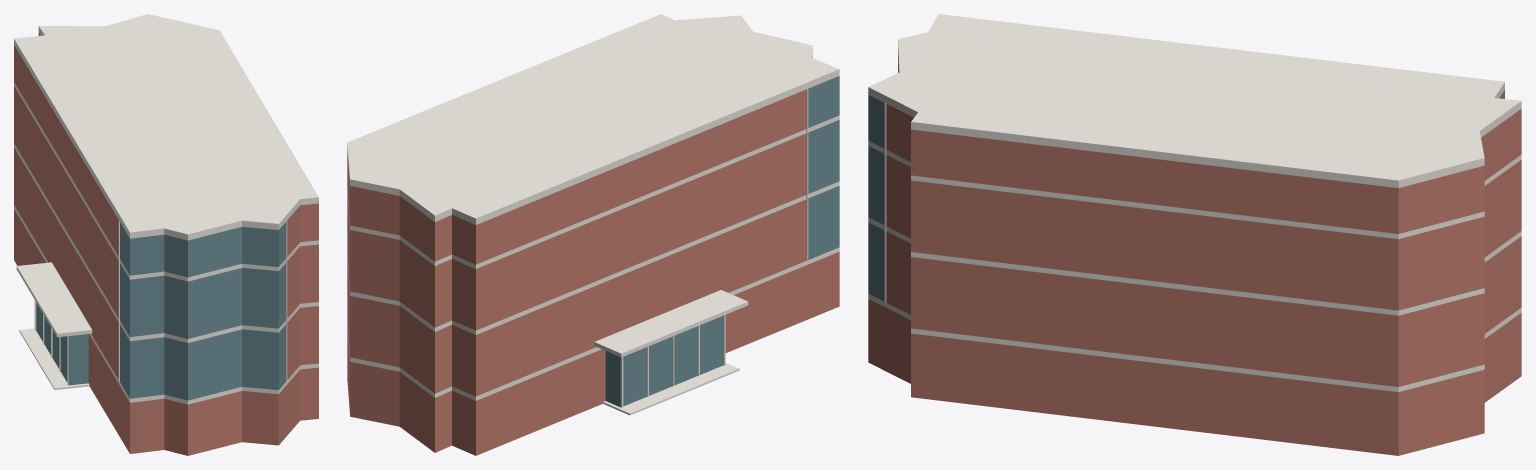
3 renders of one model, left to right at view 1: azimuth 30°, elevation 25°; view 2: azimuth 150°, elevation 25°; view 3: azimuth 270°, elevation 25°, orthographic. The views are drawn at different scales.
Visible parts, largest first — view 1: GHB_roof_slab, GHB_podium, GHB_corner_glass_0, GHB_corner_glass_1, GHB_tower_1, GHB_tower_0, GHB_corner_glass_2, GHB_tower_2, GHB_canopy, GHB_atrium, GHB_band_1, GHB_band_2 (+4 smaller); view 2: GHB_roof_slab, GHB_tower_1, GHB_tower_0, GHB_podium, GHB_tower_2, GHB_atrium, GHB_canopy, GHB_band_2, GHB_band_1, GHB_corner_glass_0, GHB_corner_glass_1, GHB_band_0 (+3 smaller); view 3: GHB_roof_slab, GHB_tower_0, GHB_tower_1, GHB_podium, GHB_tower_2, GHB_band_0, GHB_band_1, GHB_band_2, GHB_corner_glass_0, GHB_corner_glass_1, GHB_corner_glass_2.
Boxes of the visible parts, <box> form: GHB_roof_slab: <box>14,14,318,240</box>; GHB_podium: <box>14,209,318,455</box>; GHB_corner_glass_0: <box>120,325,285,400</box>; GHB_corner_glass_1: <box>120,263,285,338</box>; GHB_tower_1: <box>14,86,318,318</box>; GHB_tower_0: <box>14,148,318,379</box>; GHB_corner_glass_2: <box>120,222,285,277</box>; GHB_tower_2: <box>14,32,318,256</box>; GHB_canopy: <box>16,262,92,337</box>; GHB_atrium: <box>36,303,88,385</box>; GHB_band_1: <box>14,143,318,342</box>; GHB_band_2: <box>14,82,318,281</box>; GHB_roof_slab: <box>347,14,839,224</box>; GHB_tower_1: <box>347,133,806,330</box>; GHB_tower_0: <box>347,199,806,396</box>; GHB_podium: <box>347,251,839,455</box>; GHB_tower_2: <box>347,89,806,264</box>; GHB_atrium: <box>605,315,723,407</box>; GHB_canopy: <box>594,290,748,357</box>; GHB_band_2: <box>347,115,839,268</box>; GHB_band_1: <box>347,181,839,334</box>; GHB_corner_glass_0: <box>808,186,839,259</box>; GHB_corner_glass_1: <box>808,120,839,193</box>; GHB_band_0: <box>347,247,839,400</box>; GHB_roof_slab: <box>868,14,1521,187</box>; GHB_tower_0: <box>886,231,1521,386</box>; GHB_tower_1: <box>886,155,1521,310</box>; GHB_podium: <box>868,299,1521,455</box>; GHB_tower_2: <box>886,90,1521,233</box>; GHB_band_0: <box>868,294,1521,392</box>; GHB_band_1: <box>868,217,1521,315</box>; GHB_band_2: <box>868,141,1521,239</box>; GHB_corner_glass_0: <box>868,222,884,301</box>; GHB_corner_glass_1: <box>868,146,884,224</box>; GHB_corner_glass_2: <box>868,49,899,148</box>.
Size of the model in its own units: 28.01 by 21.6 by 46.45.
